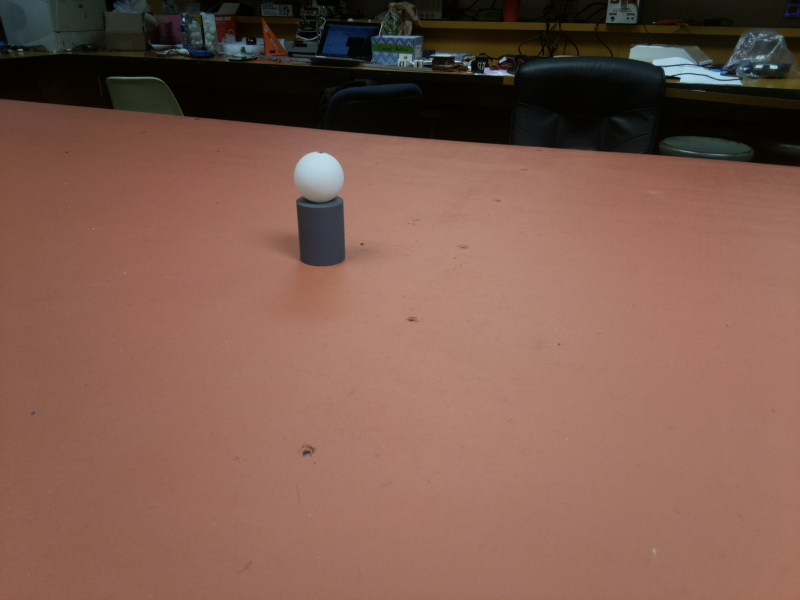obstacle: (292, 152, 346, 268)
